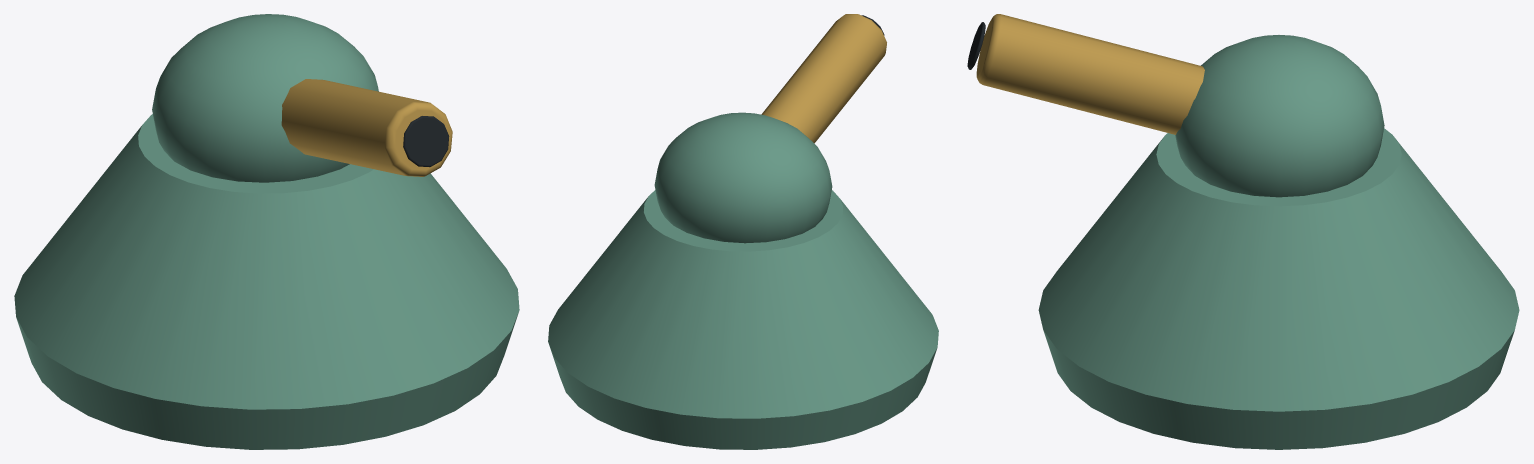
3 views of the same model, side by side, from view 1: azimuth 30°, elevation 25°; view 2: azimuth 150°, elevation 25°; view 3: azimuth 270°, elevation 25° (orthographic). The views are drawn at different scales.
Parts seen in each view (by area): view 1: Turret armoured pedestal, Weapon pivot, Weapon barrel, Weapon dark bore; view 2: Turret armoured pedestal, Weapon pivot, Weapon barrel; view 3: Turret armoured pedestal, Weapon pivot, Weapon barrel.
Part boxes in pixels (bbox=[...]): Turret armoured pedestal: bbox=[14, 114, 519, 449]; Weapon pivot: bbox=[152, 14, 378, 182]; Weapon barrel: bbox=[281, 79, 452, 176]; Weapon dark bore: bbox=[403, 116, 449, 167]; Turret armoured pedestal: bbox=[548, 190, 938, 449]; Weapon pivot: bbox=[654, 112, 832, 243]; Weapon barrel: bbox=[761, 14, 886, 143]; Turret armoured pedestal: bbox=[1038, 128, 1519, 449]; Weapon pivot: bbox=[1175, 35, 1384, 197]; Weapon barrel: bbox=[976, 14, 1204, 134].
Bounding box in the file's own units: 1.96 × 1.52 × 2.25.
